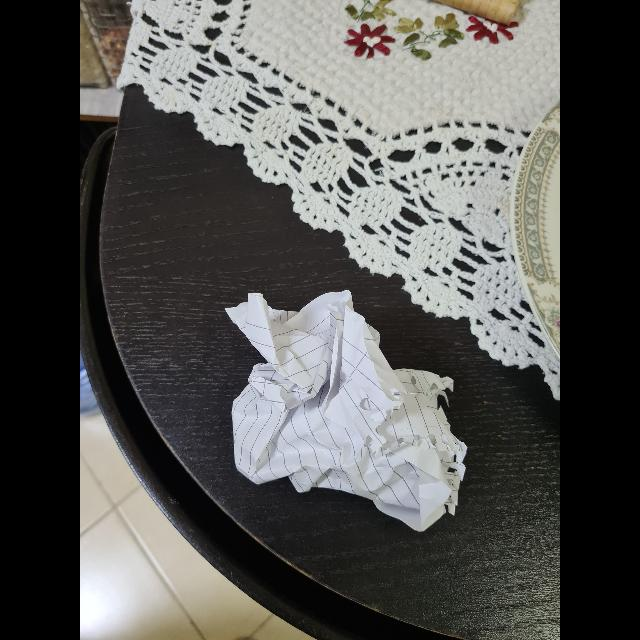scrap_paper: (225, 286, 451, 538)
